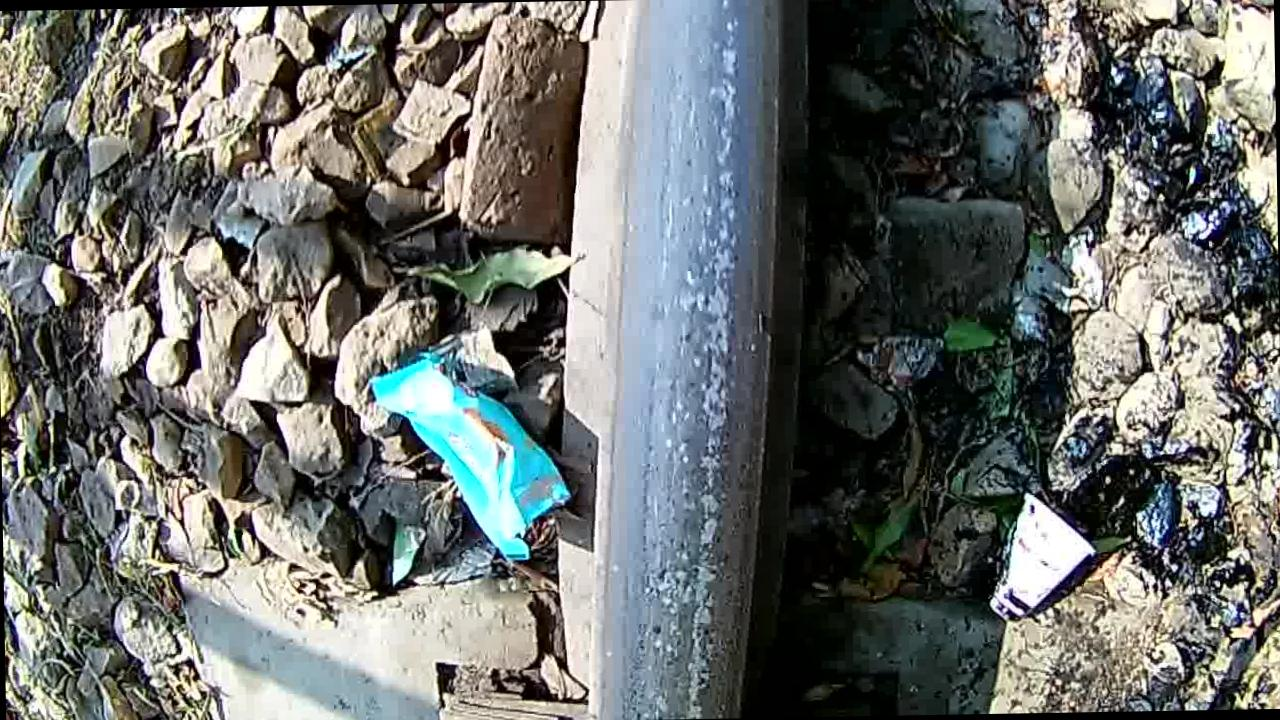clip_missing: (590, 0, 796, 720)
